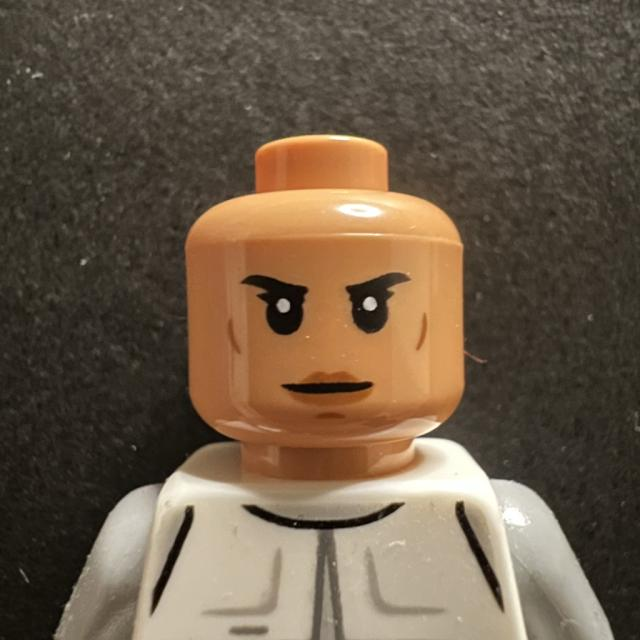alien: (160, 113, 504, 500)
